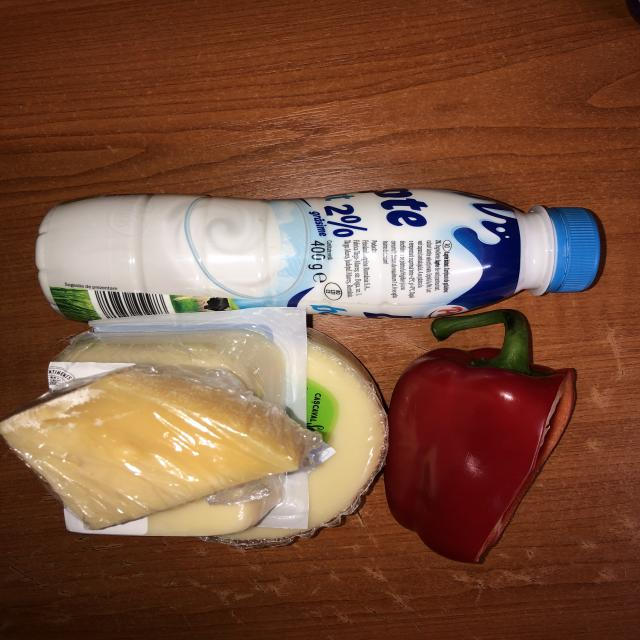cheese: (88, 326, 387, 548), (50, 322, 291, 534), (0, 366, 304, 526)
pepper: (387, 306, 576, 564)
